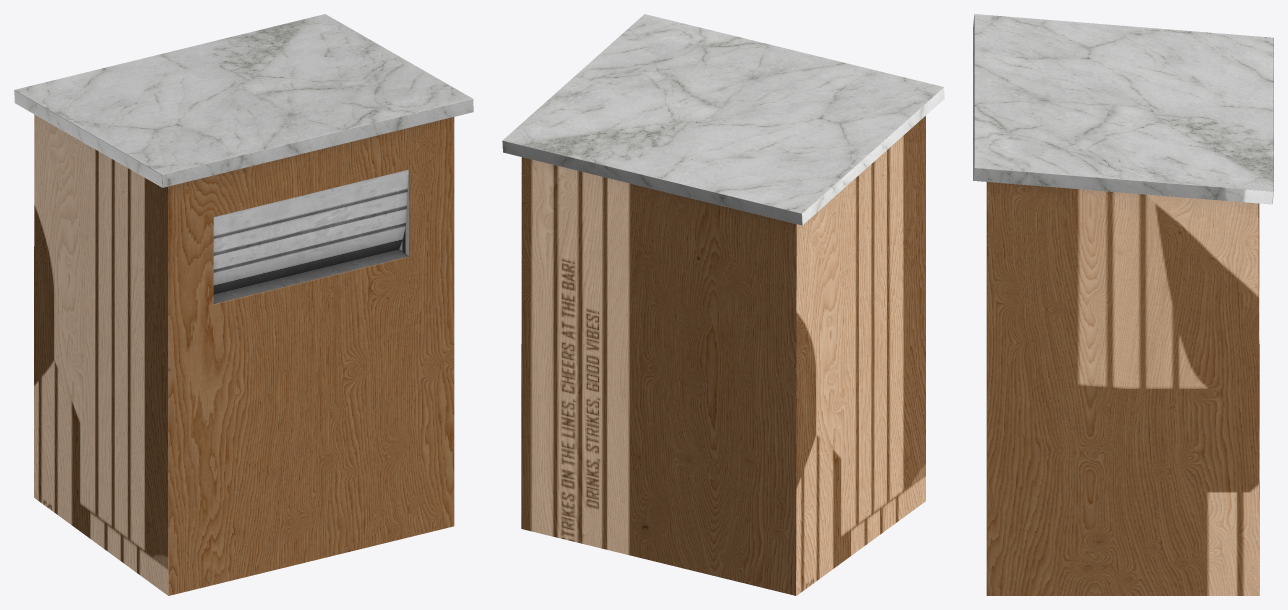
The model's file is SM_TheCoffeStop_RecycleBin.fbx.
3 renders of one model, left to right at view 1: azimuth 30°, elevation 25°; view 2: azimuth 150°, elevation 25°; view 3: azimuth 270°, elevation 25°, orthographic. The views are drawn at different scales.
Visible parts, largest first — view 1: SM_TheCoffeStop_RecycleBin; view 2: SM_TheCoffeStop_RecycleBin; view 3: SM_TheCoffeStop_RecycleBin.
Boxes of the visible parts, left/top/right/bottom form: SM_TheCoffeStop_RecycleBin: left=14, top=14, right=473, bottom=595; SM_TheCoffeStop_RecycleBin: left=502, top=14, right=944, bottom=595; SM_TheCoffeStop_RecycleBin: left=973, top=14, right=1273, bottom=595.
Size of the model in its own units: 89.7 by 74.08 by 118.
1 material, 1 textured.
